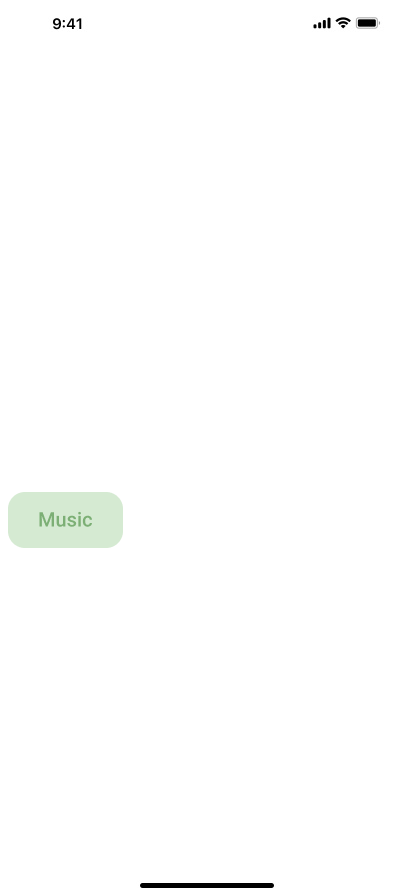Buttons: (8, 492, 131, 548)
Home Indicator: (0, 862, 414, 896)
Status Bar: (0, 0, 414, 44)
